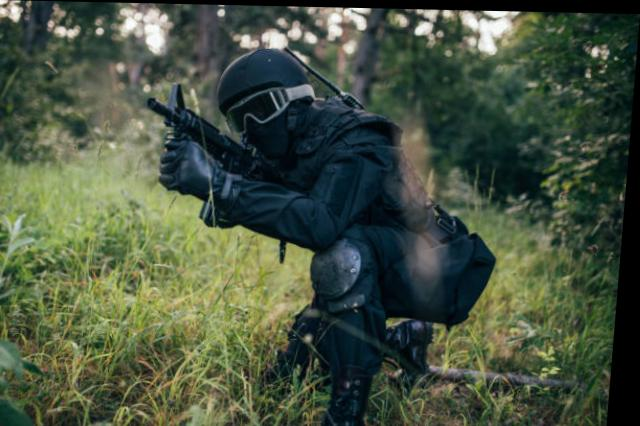other: (191, 47, 481, 400)
